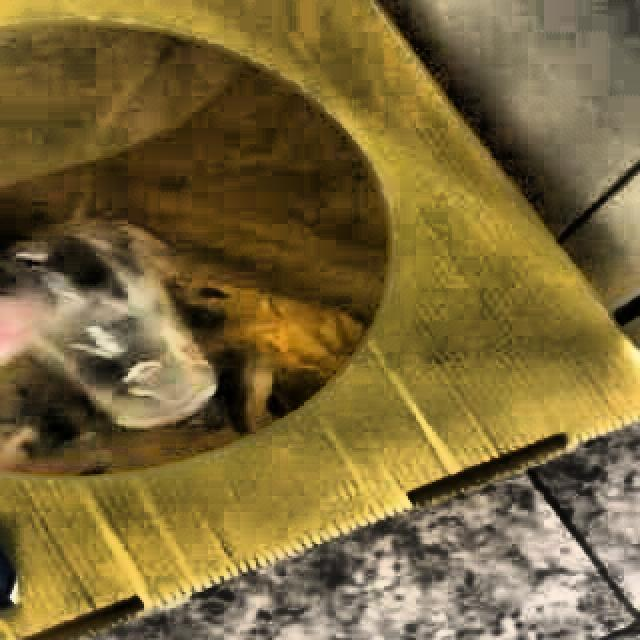plastic: (0, 222, 216, 429)
